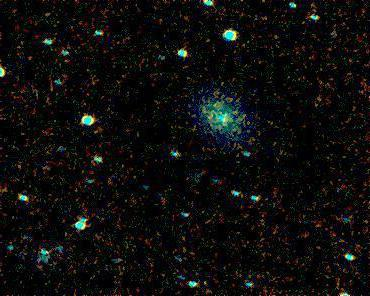star: (214, 106, 244, 136)
